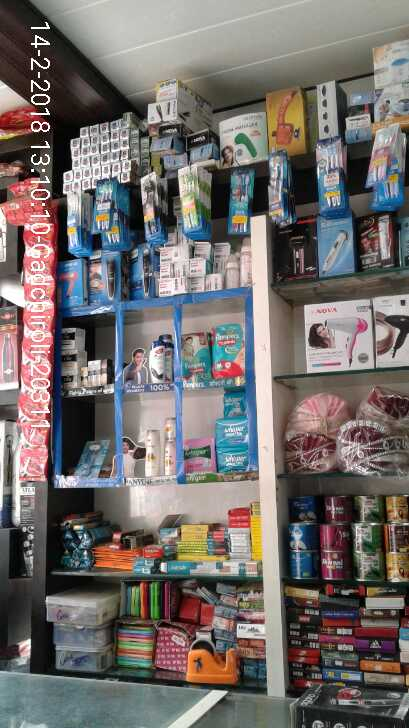venus: (72, 439, 107, 475)
